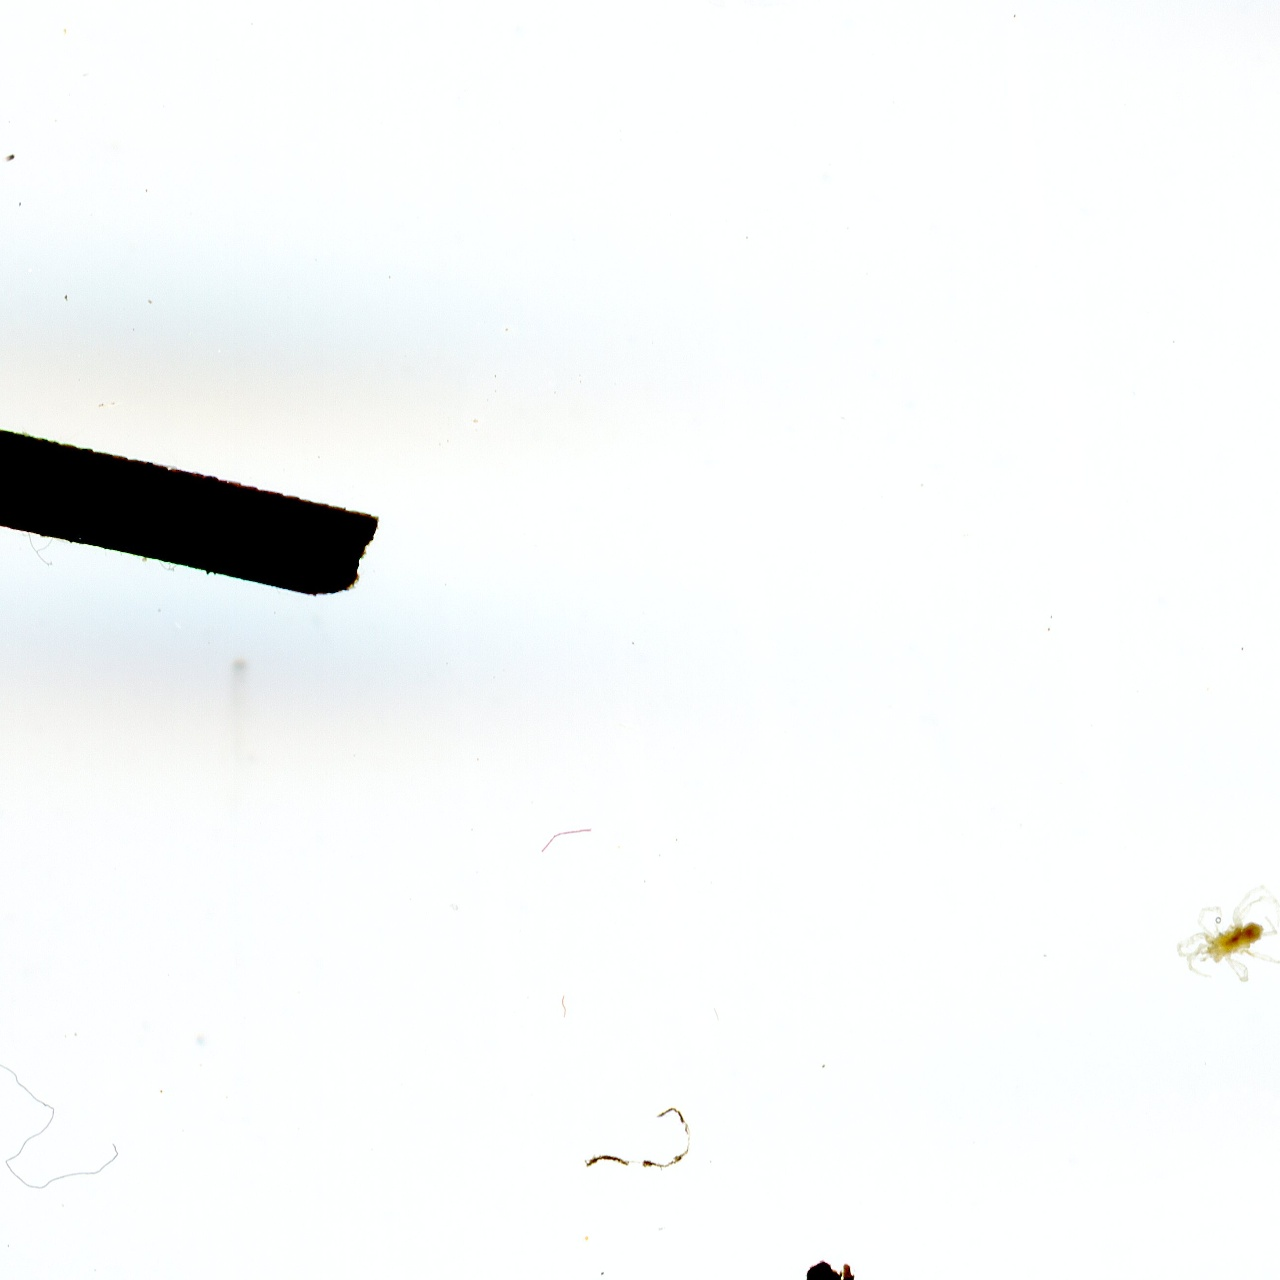arthropod: (1171, 874, 1280, 988)
